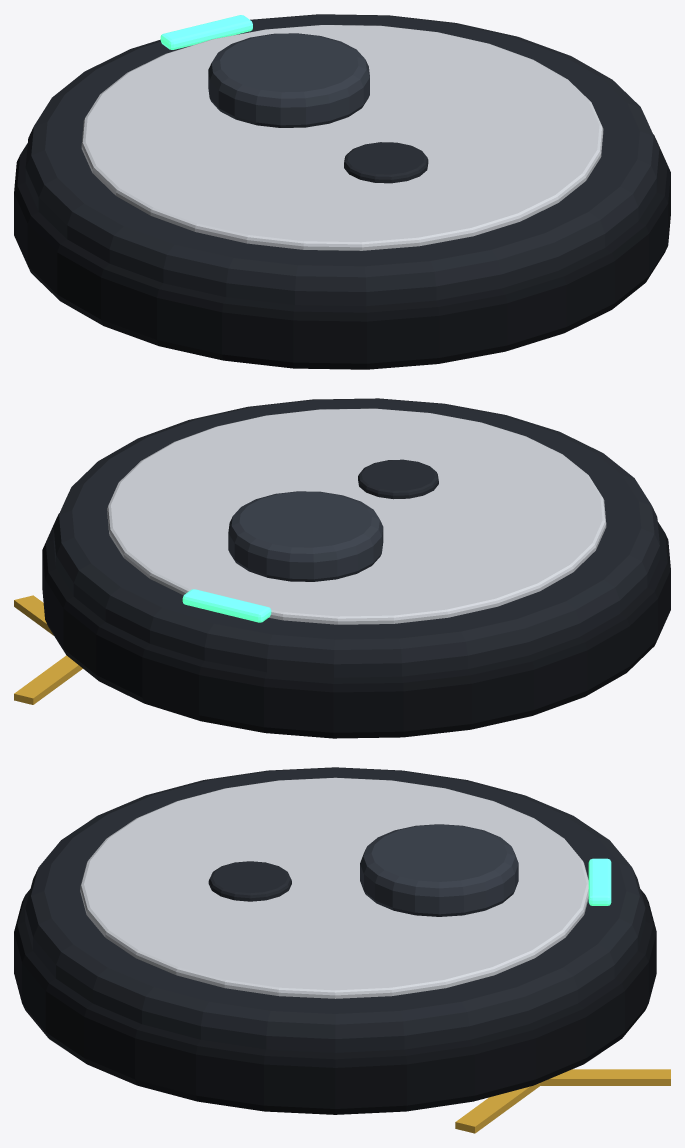
File: robotVacuum.glb
3 renders of one model, top to bottom at view 1: azimuth 30°, elevation 25°; view 2: azimuth 150°, elevation 25°; view 3: azimuth 270°, elevation 25°, orthographic. The views are drawn at different scales.
Visible parts, largest first — view 1: TopPlate, Body, Bumper, Turret, Button, Led; view 2: TopPlate, Body, Bumper, Turret, Button, Led, Bristle0, Bristle2; view 3: TopPlate, Body, Bumper, Turret, Button, Bristle0, Bristle2, Led.
Part boxes in pixels (bbox=[...]): TopPlate: bbox=[81, 25, 603, 250]; Body: bbox=[25, 14, 659, 306]; Bumper: bbox=[14, 134, 670, 369]; Turret: bbox=[208, 33, 369, 127]; Button: bbox=[344, 142, 428, 183]; Led: bbox=[160, 15, 252, 49]; TopPlate: bbox=[107, 408, 606, 624]; Body: bbox=[53, 398, 659, 677]; Bumper: bbox=[42, 513, 670, 738]; Turret: bbox=[228, 491, 383, 581]; Button: bbox=[358, 459, 438, 499]; Led: bbox=[182, 589, 271, 622]; Bristle0: bbox=[14, 655, 82, 704]; Bristle2: bbox=[14, 595, 53, 635]; TopPlate: bbox=[80, 777, 588, 998]; Body: bbox=[25, 767, 645, 1052]; Bumper: bbox=[14, 889, 656, 1114]; Turret: bbox=[360, 824, 518, 916]; Button: bbox=[208, 861, 291, 901]; Bristle0: bbox=[540, 1069, 670, 1085]; Bristle2: bbox=[455, 1083, 540, 1133]; Led: bbox=[588, 858, 611, 905].
Bounding box in the file's own units: 0.3408 × 0.084 × 0.3475.
